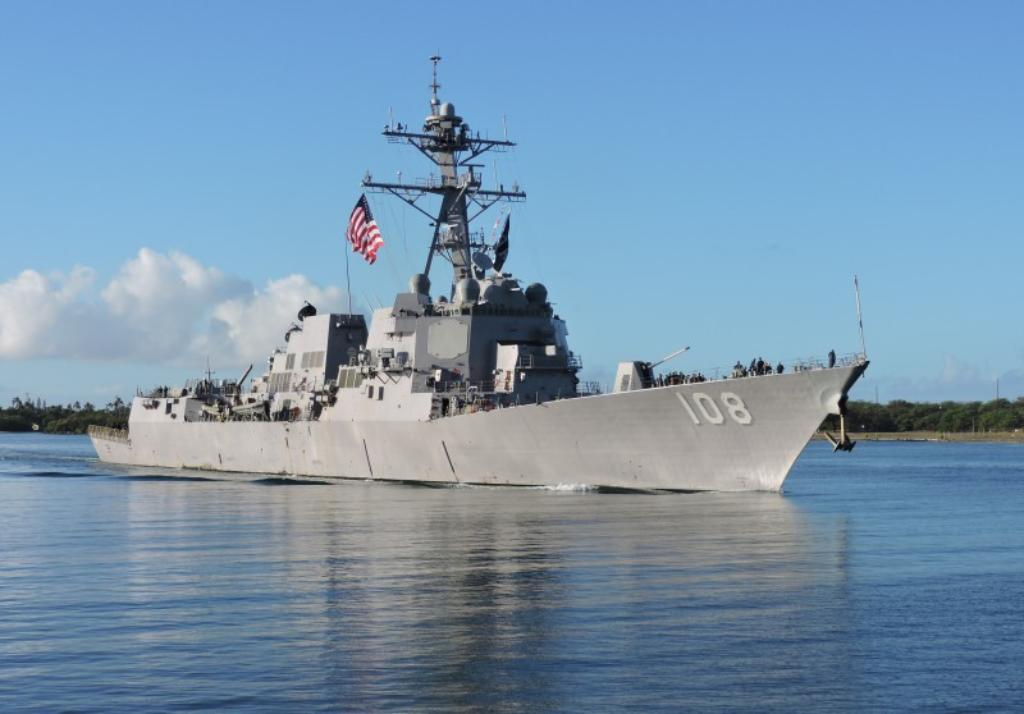Warship: (88, 46, 866, 498)
